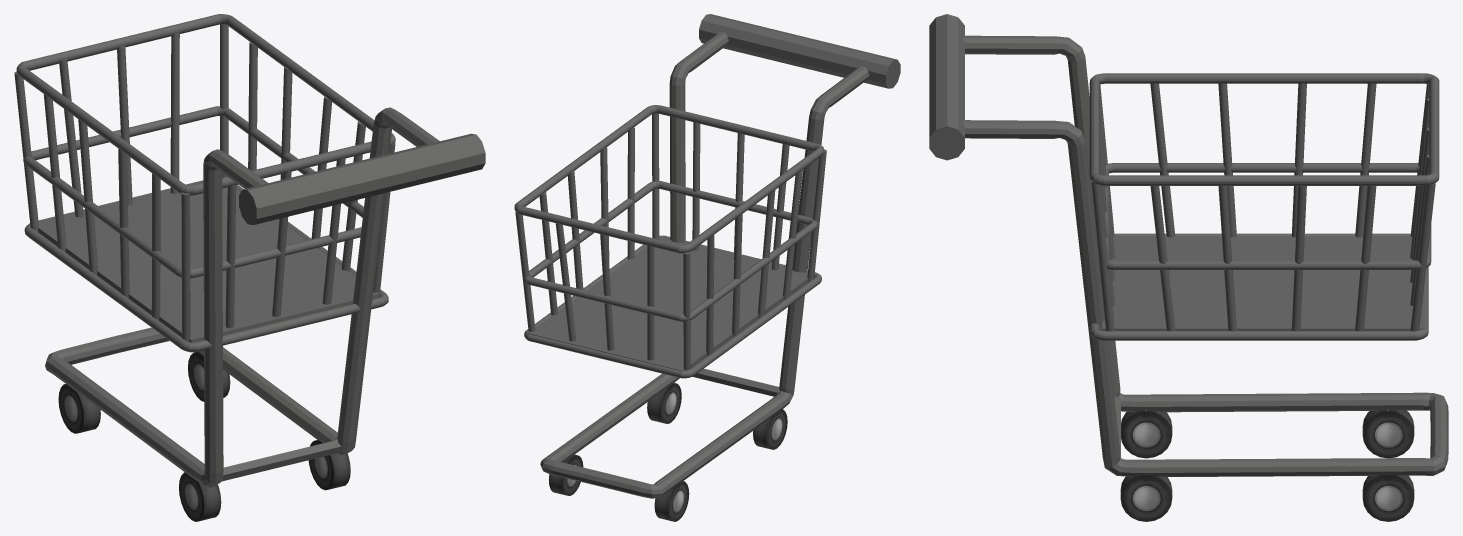
File: shoppingcar02.fbx
3 renders of one model, left to right at view 1: azimuth 30°, elevation 25°; view 2: azimuth 150°, elevation 25°; view 3: azimuth 270°, elevation 25°, orthographic. The views are drawn at different scales.
Visible parts, largest first — view 1: cage, handolle, tire_back_left, tire_front_left, tire_back_right, taiyatire_front_right; view 2: cage, handolle, tire_back_right, tire_front_left, tire_back_left, taiyatire_front_right; view 3: cage, handolle, tire_front_left, tire_back_left, taiyatire_front_right, tire_back_right.
Part boxes in pixels (x1,y1,x2,y2): cage: (14, 14, 395, 352); handolle: (45, 107, 485, 487); tire_back_left: (179, 472, 221, 521); tire_front_left: (58, 384, 100, 433); tire_back_right: (308, 440, 350, 490); taiyatire_front_right: (188, 351, 230, 401); cage: (514, 105, 826, 378); handolle: (540, 14, 900, 498); tire_back_right: (647, 383, 681, 423); tire_front_left: (654, 481, 689, 521); tire_back_left: (753, 409, 787, 449); taiyatire_front_right: (549, 454, 583, 495); cage: (1089, 73, 1439, 340); handolle: (929, 14, 1448, 476); tire_front_left: (1362, 409, 1414, 458); tire_back_left: (1121, 409, 1172, 458); taiyatire_front_right: (1362, 474, 1414, 521); tire_back_right: (1120, 474, 1172, 521).
Bounding box in the file's own units: 49.95 × 86.11 × 97.67.
